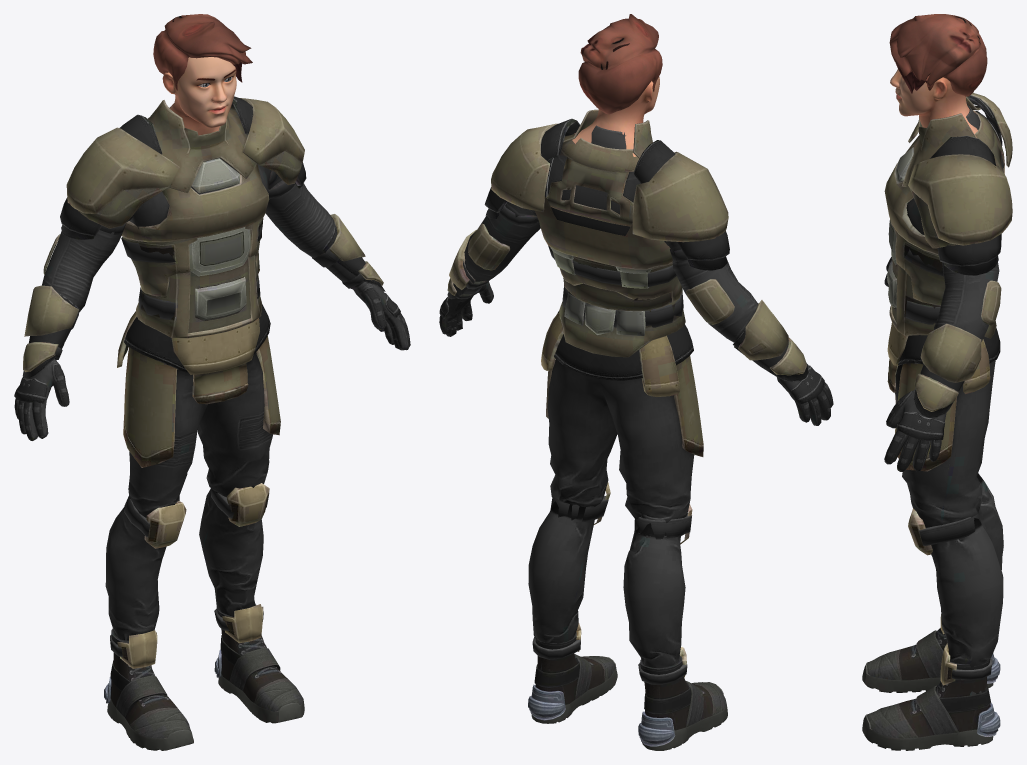
File: Muscular_Character_Costume_3.glb
The picture shows the model from 3 angles, left to right: view 1: azimuth 30°, elevation 25°; view 2: azimuth 150°, elevation 25°; view 3: azimuth 270°, elevation 25°; orthographic projection.
Parts seen in each view (by area): view 1: Wolf3D_Outfit_Top.001, Wolf3D_Outfit_Bottom.001, Wolf3D_Outfit_Footwear.001, Head.006, Head.005; view 2: Wolf3D_Outfit_Top.001, Wolf3D_Outfit_Bottom.001, Wolf3D_Outfit_Footwear.001, Head.006, Head.005; view 3: Wolf3D_Outfit_Top.001, Wolf3D_Outfit_Bottom.001, Wolf3D_Outfit_Footwear.001, Head.006, Head.005.
Boxes of the visible parts, left/top/right/bottom form: Wolf3D_Outfit_Top.001: left=14, top=96, right=410, bottom=440; Wolf3D_Outfit_Bottom.001: left=105, top=304, right=280, bottom=668; Wolf3D_Outfit_Footwear.001: left=104, top=604, right=304, bottom=750; Head.006: left=153, top=14, right=252, bottom=90; Head.005: left=162, top=57, right=236, bottom=135; Wolf3D_Outfit_Top.001: left=439, top=109, right=833, bottom=425; Wolf3D_Outfit_Bottom.001: left=528, top=311, right=703, bottom=684; Wolf3D_Outfit_Footwear.001: left=528, top=632, right=727, bottom=750; Head.006: left=578, top=14, right=662, bottom=114; Head.005: left=572, top=76, right=659, bottom=156; Wolf3D_Outfit_Top.001: left=884, top=93, right=1012, bottom=471; Wolf3D_Outfit_Bottom.001: left=887, top=323, right=1003, bottom=695; Wolf3D_Outfit_Footwear.001: left=862, top=628, right=1000, bottom=750; Head.006: left=889, top=14, right=987, bottom=96; Head.005: left=890, top=69, right=977, bottom=137.
Bounding box in the file's own units: 1.08 × 1.87 × 0.3658.
Materials: 6 (6 with a texture image).
